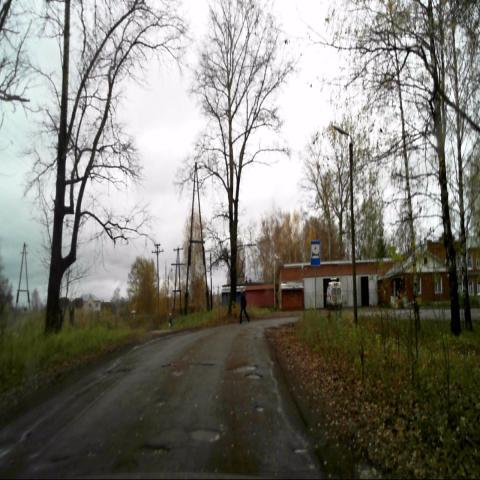7_2: (310, 240, 320, 265)
